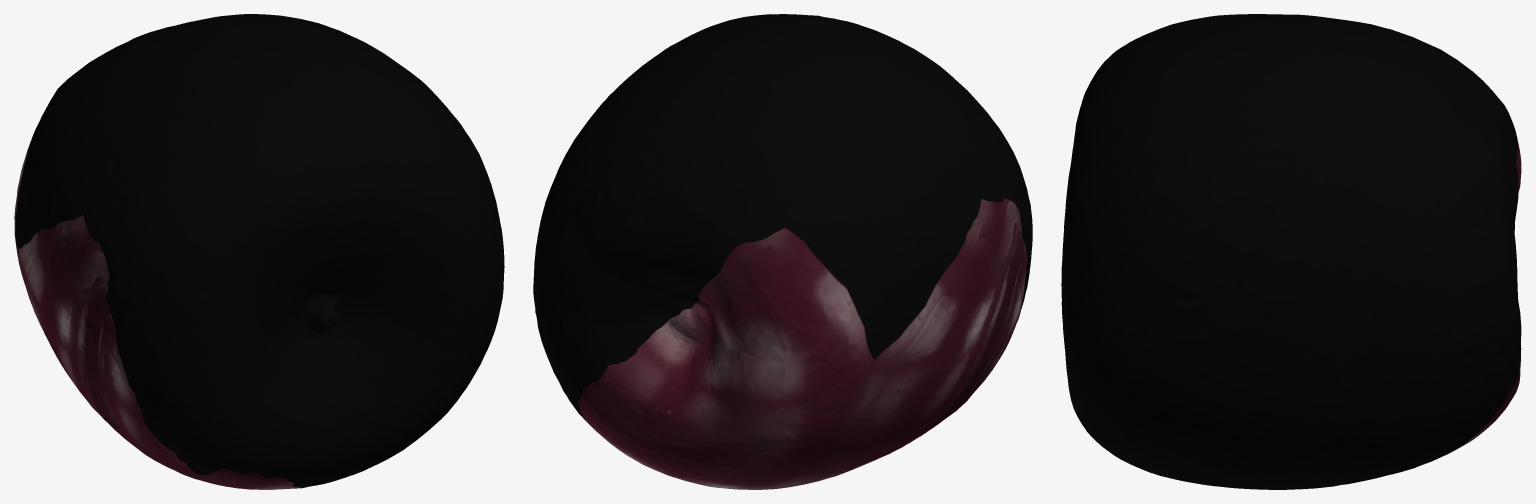
3 renders of one model, left to right at view 1: azimuth 30°, elevation 25°; view 2: azimuth 150°, elevation 25°; view 3: azimuth 270°, elevation 25°, orthographic. The views are drawn at different scales.
Parts seen in each view (by area): view 1: node; view 2: node; view 3: node.
Boxes of the visible parts, bbox=[...] form: node: bbox=[14, 14, 504, 489]; node: bbox=[533, 14, 1032, 489]; node: bbox=[1061, 14, 1521, 489].
Bounding box in the file's own units: 0.0754 × 0.0749 × 0.0719.
